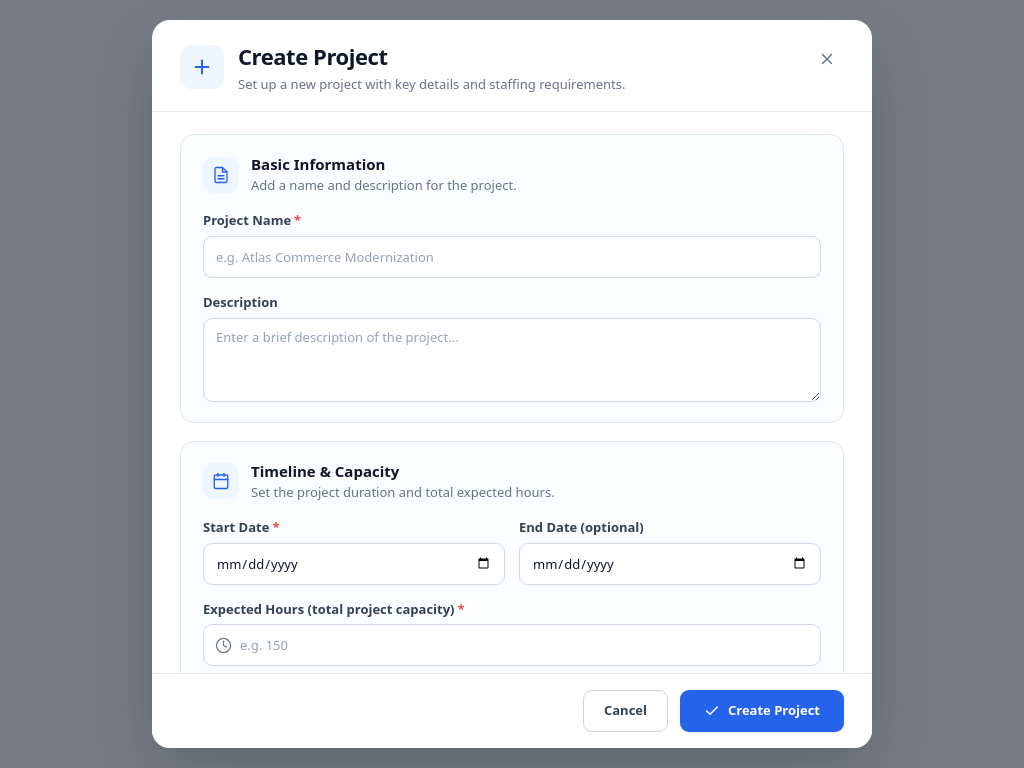
Test: CreateProjectModal › validates required fields on empty submit and displays error messages
Click the button "Create Project" at [762, 711], box [680,690,844,732]
(page scrolled)
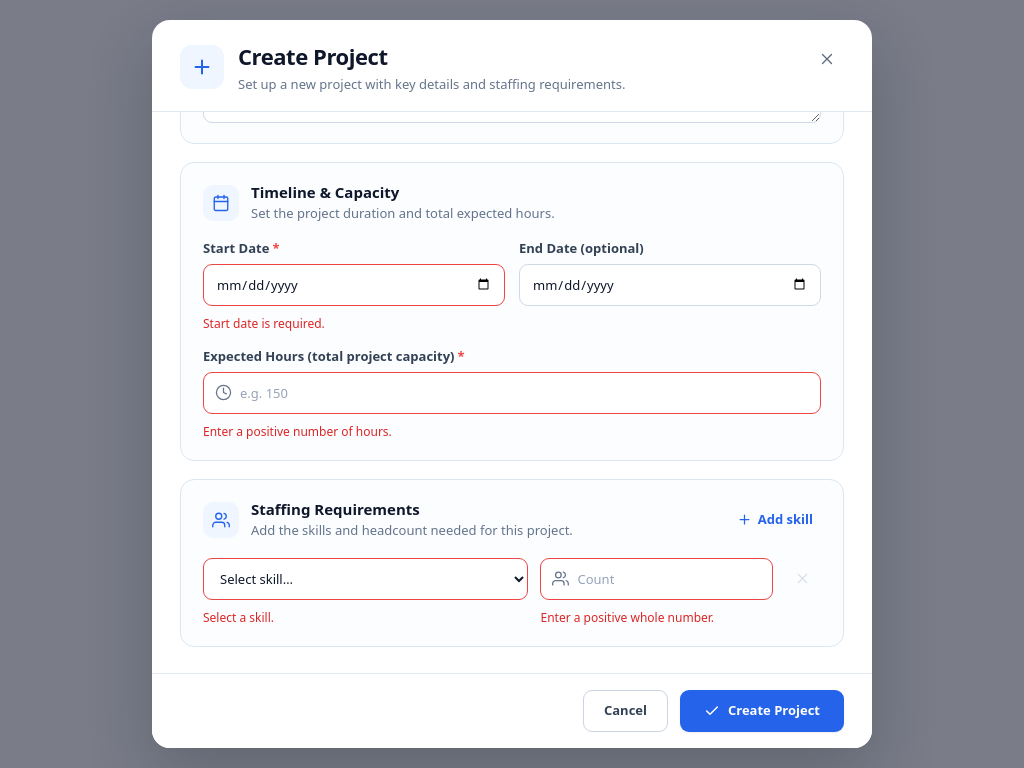
Result: the text "Start date is required." is shown at [203,315,325,332]
Result: the text "Enter a positive number of hours." is shown at [203,423,392,440]
Result: the text "Select a skill." is shown at [203,609,274,626]
